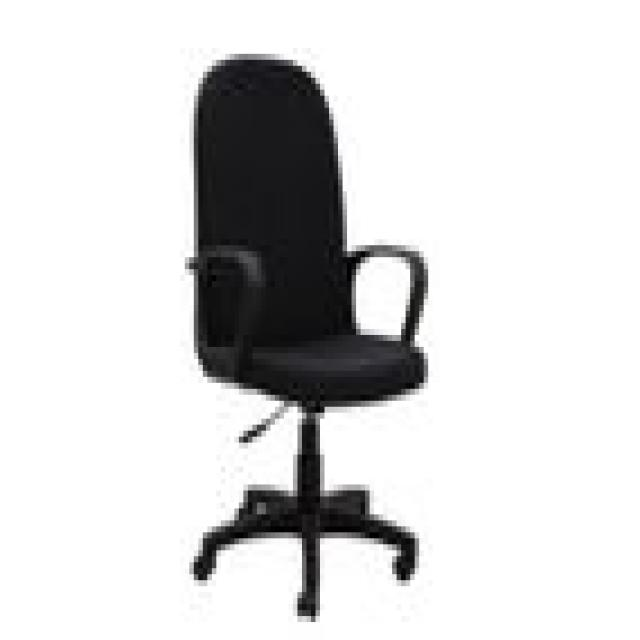others: (176, 42, 442, 616)
